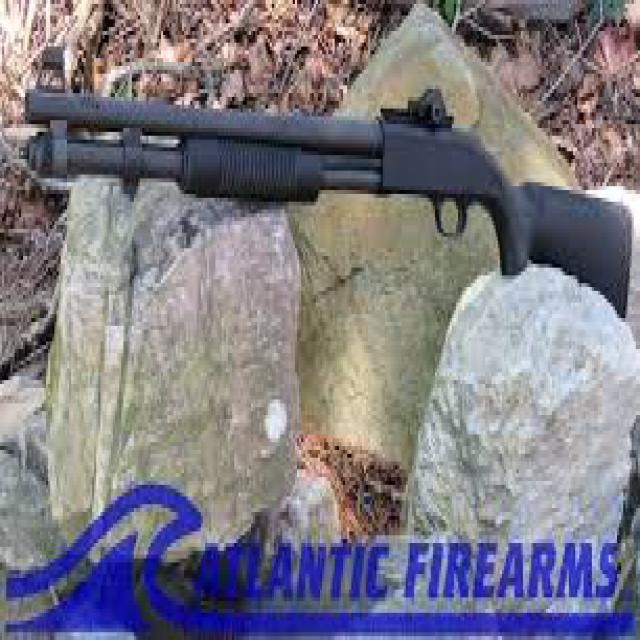long weapon: (19, 51, 630, 321)
